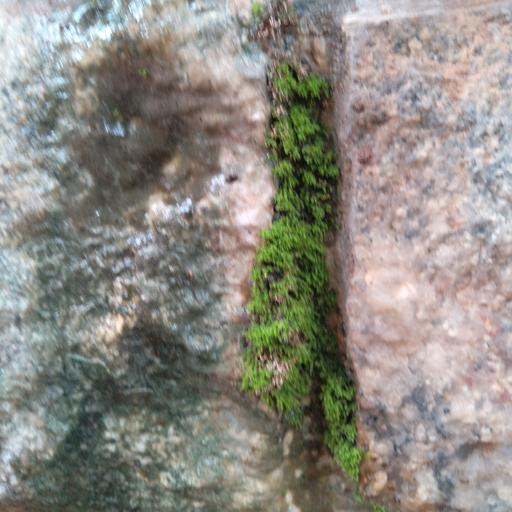algae: (226, 47, 419, 495)
